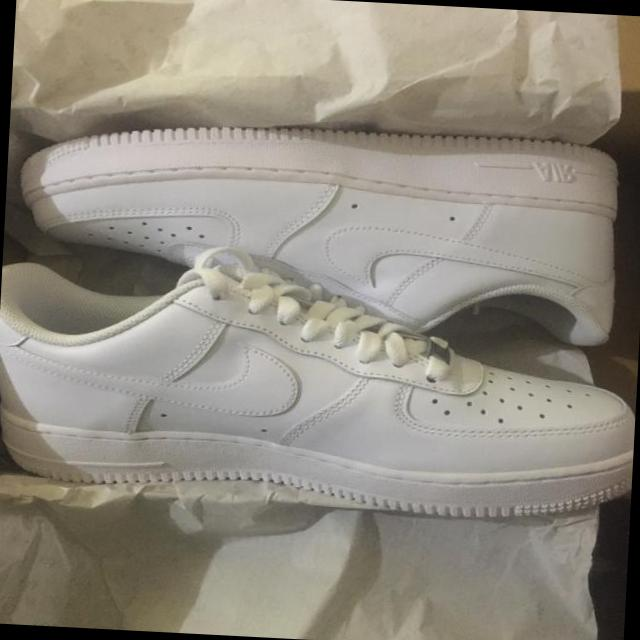nike_original_airforce: (0, 260, 640, 530), (13, 111, 630, 356)
